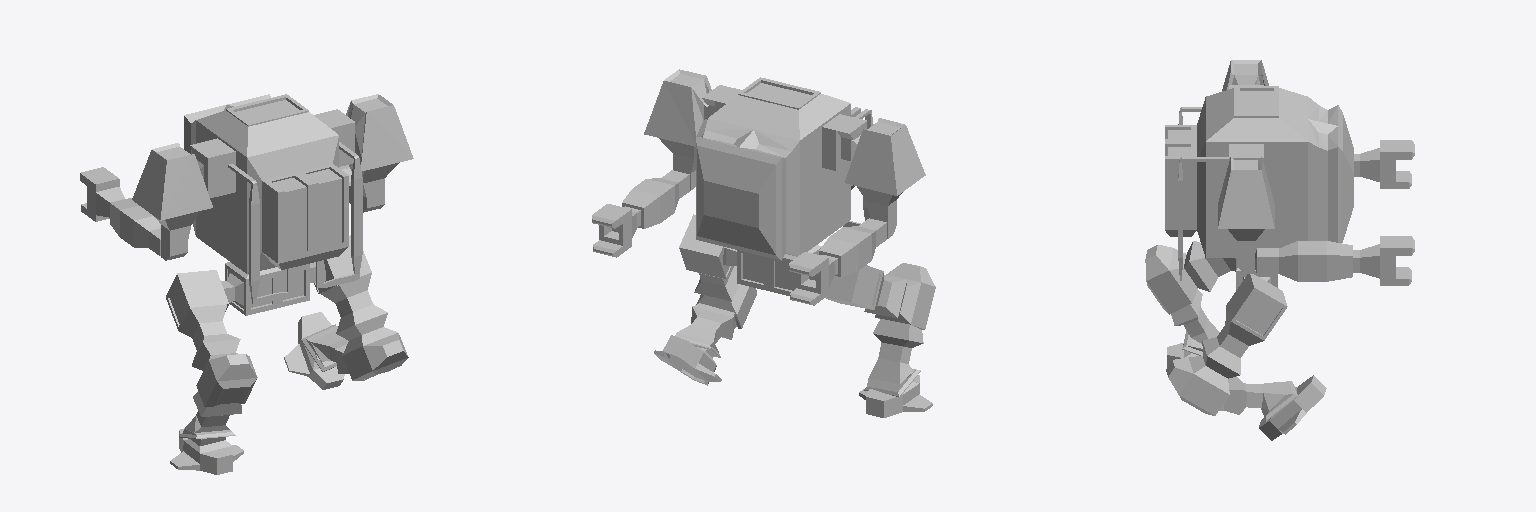
File: StarWalker_Mesh.obj
The picture shows the model from 3 angles: view 1: azimuth 30°, elevation 25°; view 2: azimuth 150°, elevation 25°; view 3: azimuth 270°, elevation 25°; orthographic projection.
Parts seen in each view (by area): view 1: StarWalker; view 2: StarWalker; view 3: StarWalker.
Part boxes in pixels (x1,y1,x2,y2): StarWalker: (80, 94, 413, 474); StarWalker: (592, 69, 935, 417); StarWalker: (1145, 60, 1414, 440).
Bounding box in the file's own units: 6.5 × 7.58 × 5.98.